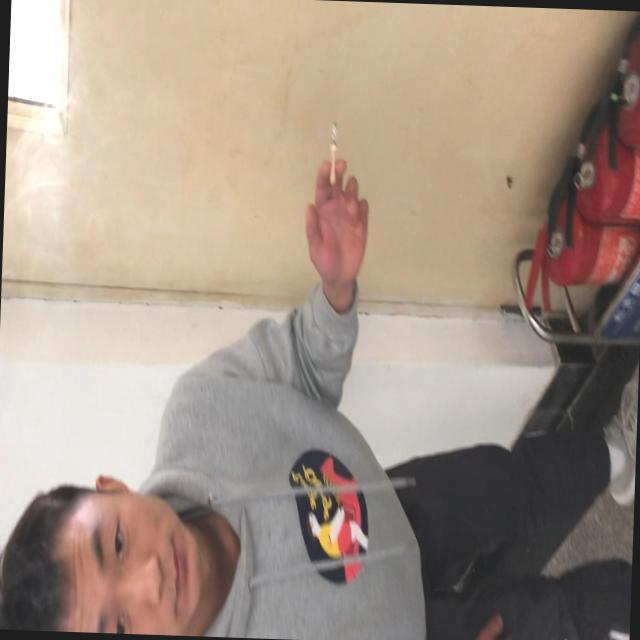smoke: (326, 116, 342, 188)
